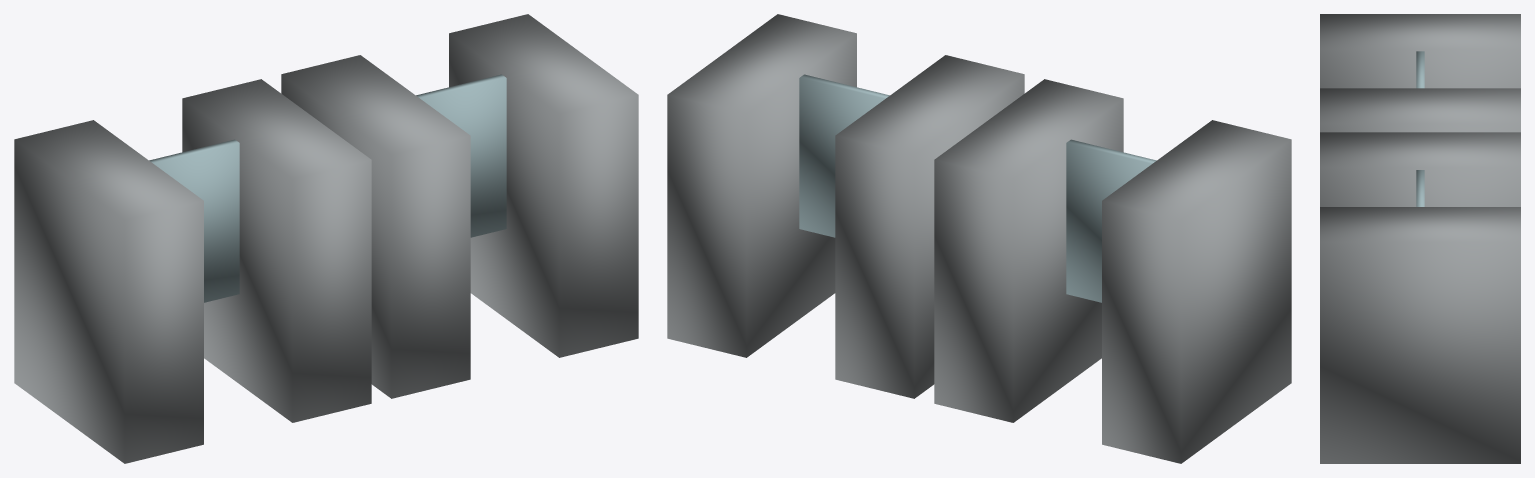
Rendered from fare_gate__cluster.glb.
3 renders of one model, left to right at view 1: azimuth 30°, elevation 25°; view 2: azimuth 150°, elevation 25°; view 3: azimuth 270°, elevation 25°, orthographic. The views are drawn at different scales.
Parts seen in each view (by area): view 1: world; view 2: world; view 3: world.
Part boxes in pixels (x1=…): world: x1=14, y1=14, x2=638, y2=463; world: x1=667, y1=14, x2=1291, y2=463; world: x1=1320, y1=14, x2=1520, y2=463.
Bounding box in the file's own units: 2.2 × 1 × 0.82.
